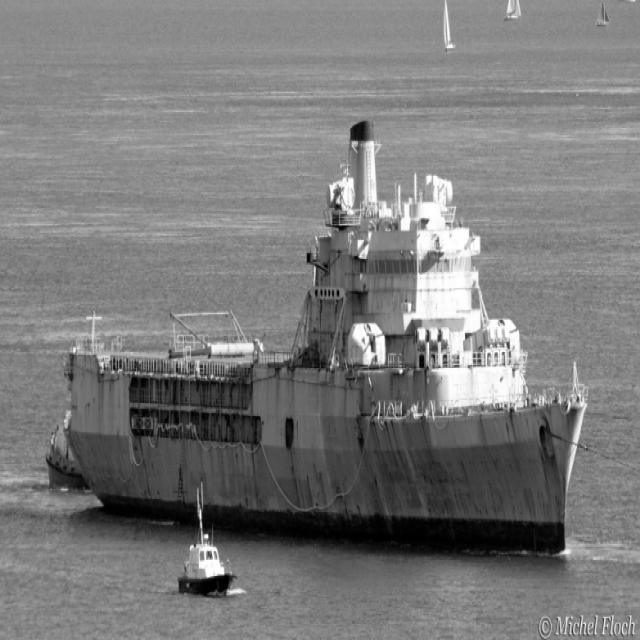Portanaves: (52, 116, 589, 568)
